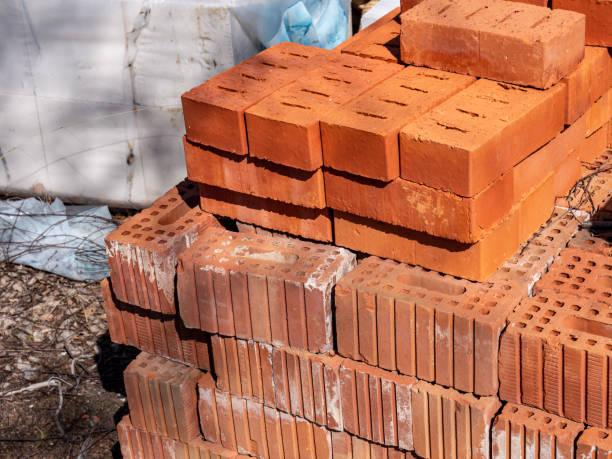Bricks: (209, 337, 490, 458), (333, 293, 503, 404), (340, 243, 557, 326), (401, 0, 590, 90), (323, 174, 521, 246), (198, 392, 406, 458), (323, 213, 524, 280), (402, 74, 558, 158), (178, 263, 326, 349), (502, 329, 611, 432), (188, 39, 337, 111), (356, 256, 521, 321), (508, 254, 611, 357), (331, 61, 468, 137), (464, 87, 562, 190), (252, 52, 392, 124), (187, 230, 350, 283), (184, 146, 319, 208), (524, 142, 604, 233), (106, 183, 209, 253), (202, 191, 334, 244), (513, 284, 611, 354), (512, 121, 587, 207), (123, 372, 190, 447), (496, 419, 611, 458), (109, 243, 172, 308), (567, 39, 611, 119), (407, 136, 470, 187), (244, 118, 307, 168), (326, 127, 383, 177), (187, 102, 243, 152), (577, 87, 611, 141), (591, 124, 611, 164)
